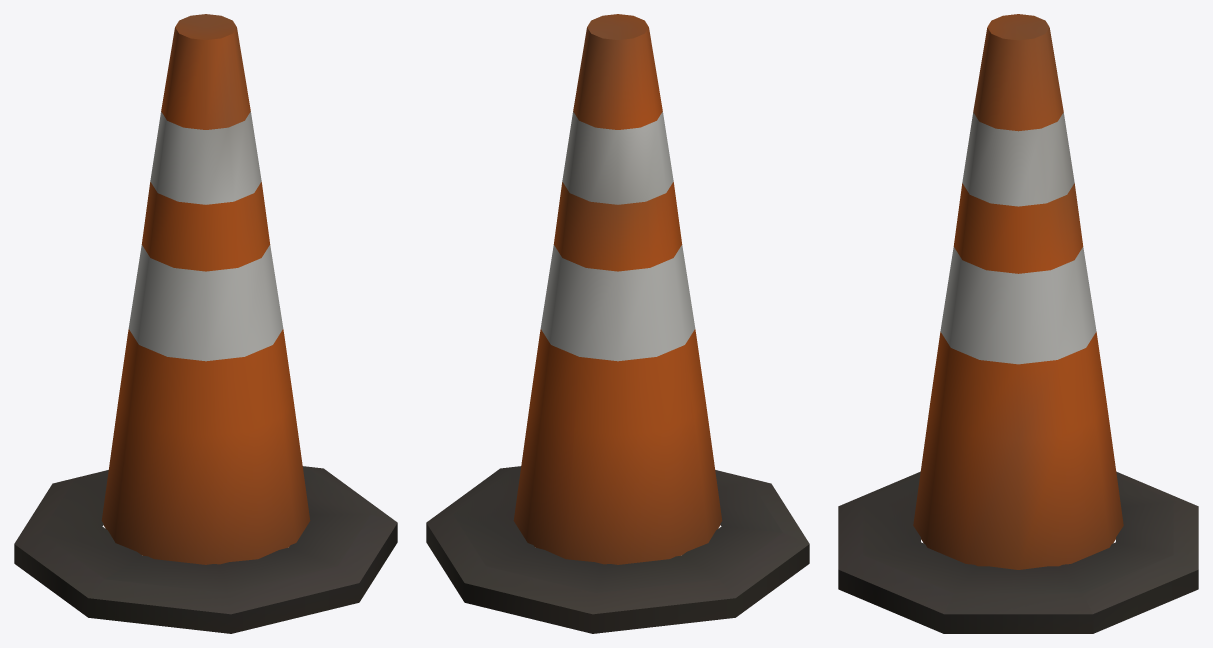
3 renders of one model, left to right at view 1: azimuth 30°, elevation 25°; view 2: azimuth 150°, elevation 25°; view 3: azimuth 270°, elevation 25°, orthographic.
Visible parts, largest first — view 1: Cone; view 2: Cone; view 3: Cone.
Boxes of the visible parts, x1,y1,x2,y2 form: Cone: (14, 14, 397, 633); Cone: (426, 14, 809, 633); Cone: (838, 14, 1198, 633).
Size of the model in its own units: 0.4619 by 0.75 by 0.4619.
